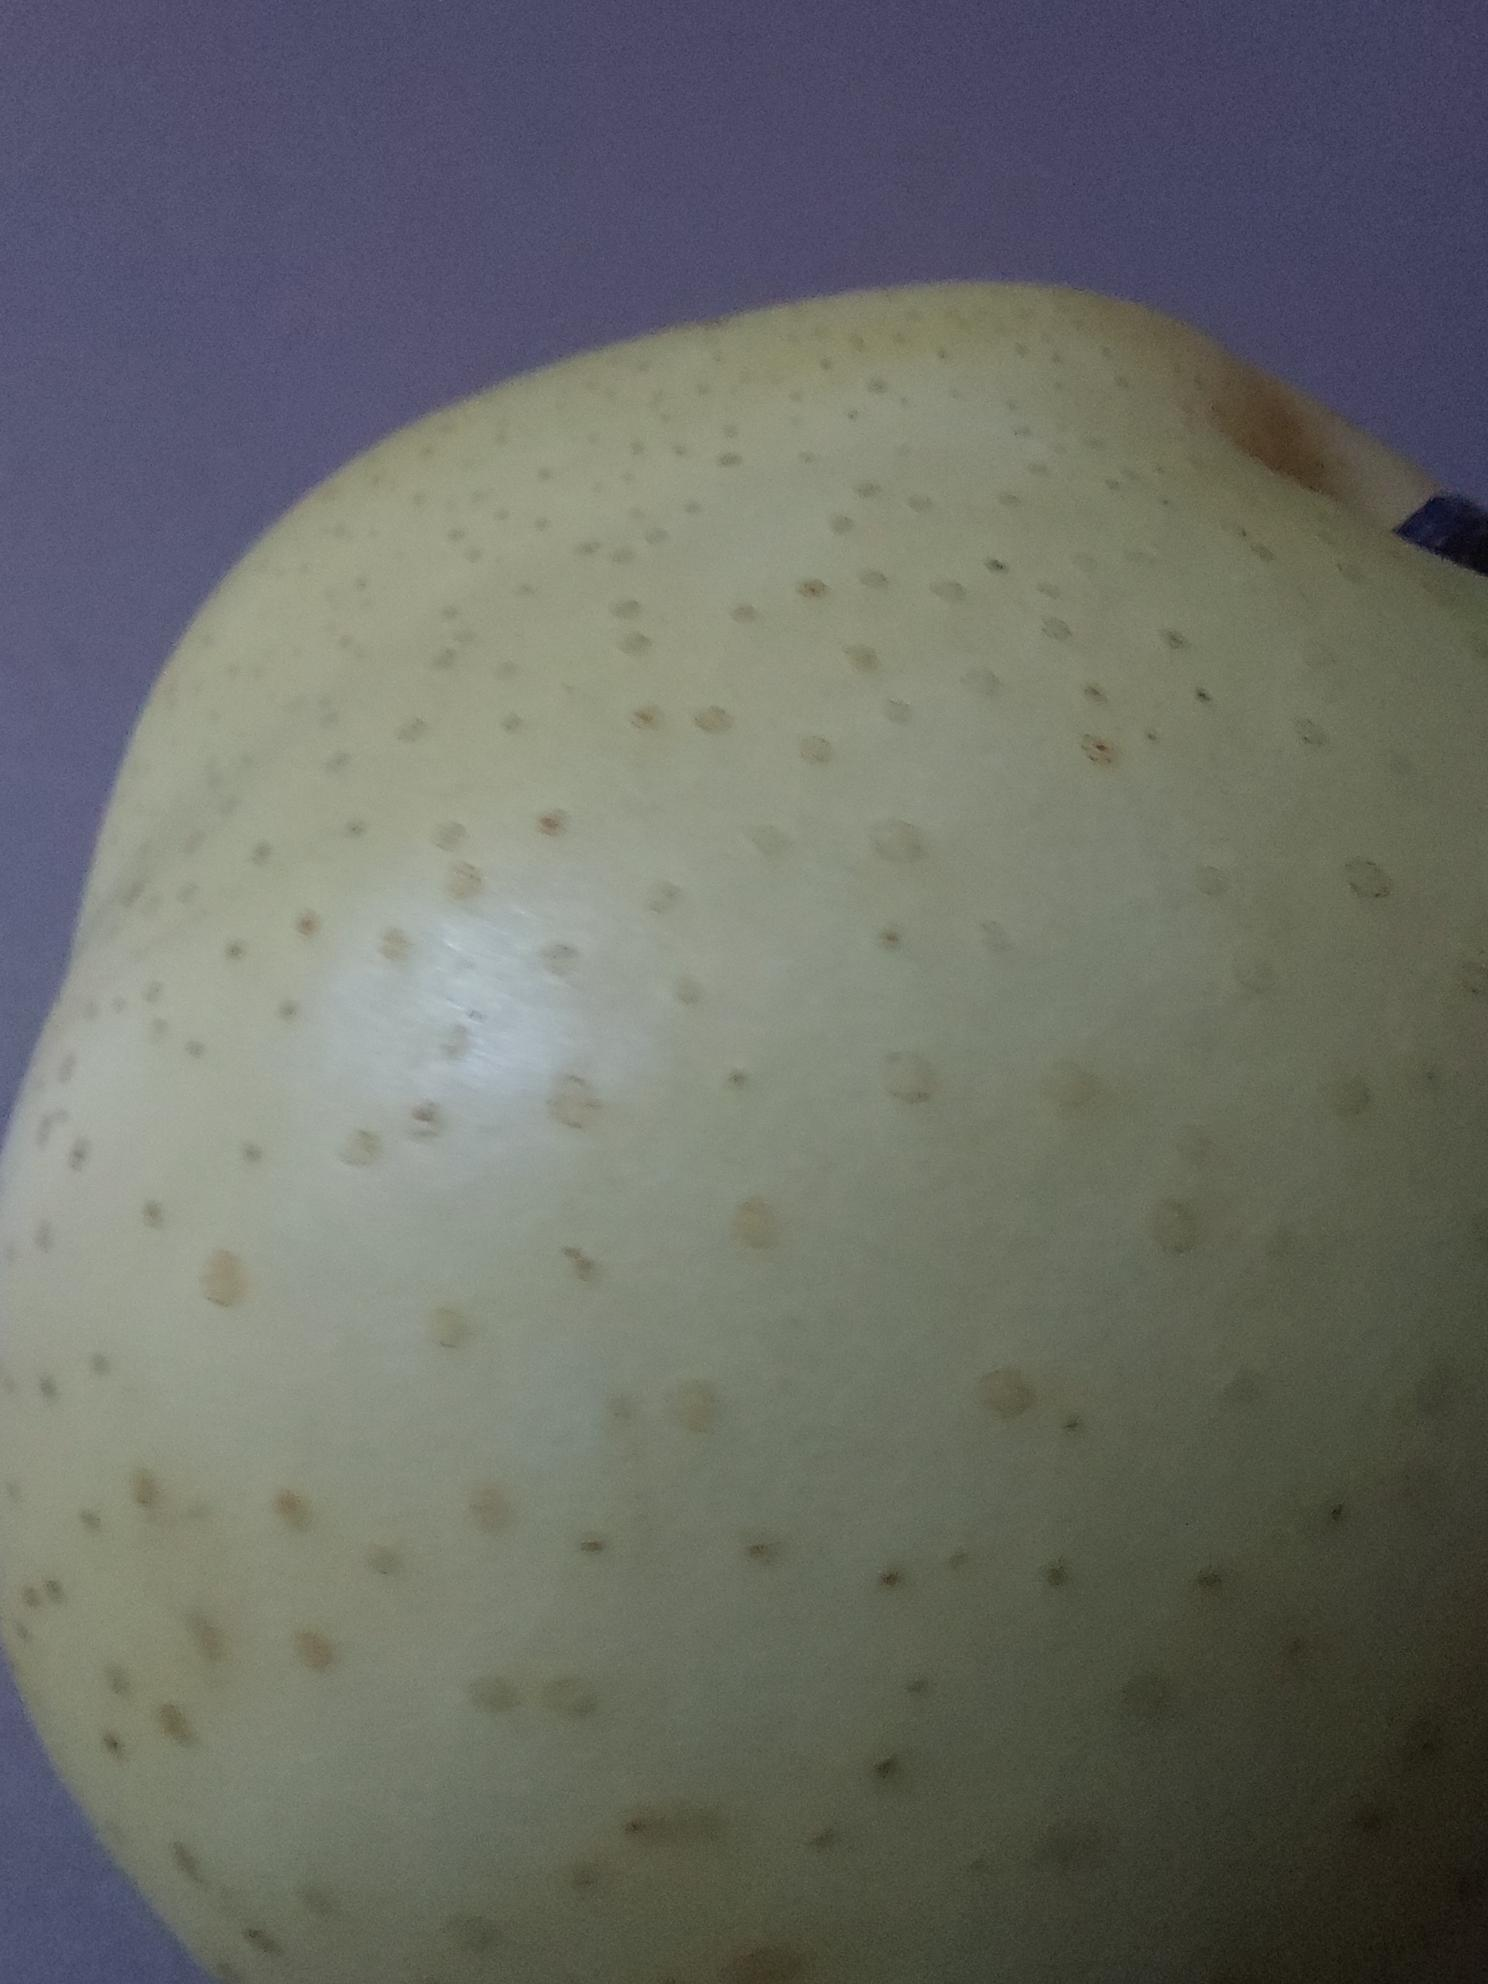Good Pear: (0, 272, 1488, 1984)
